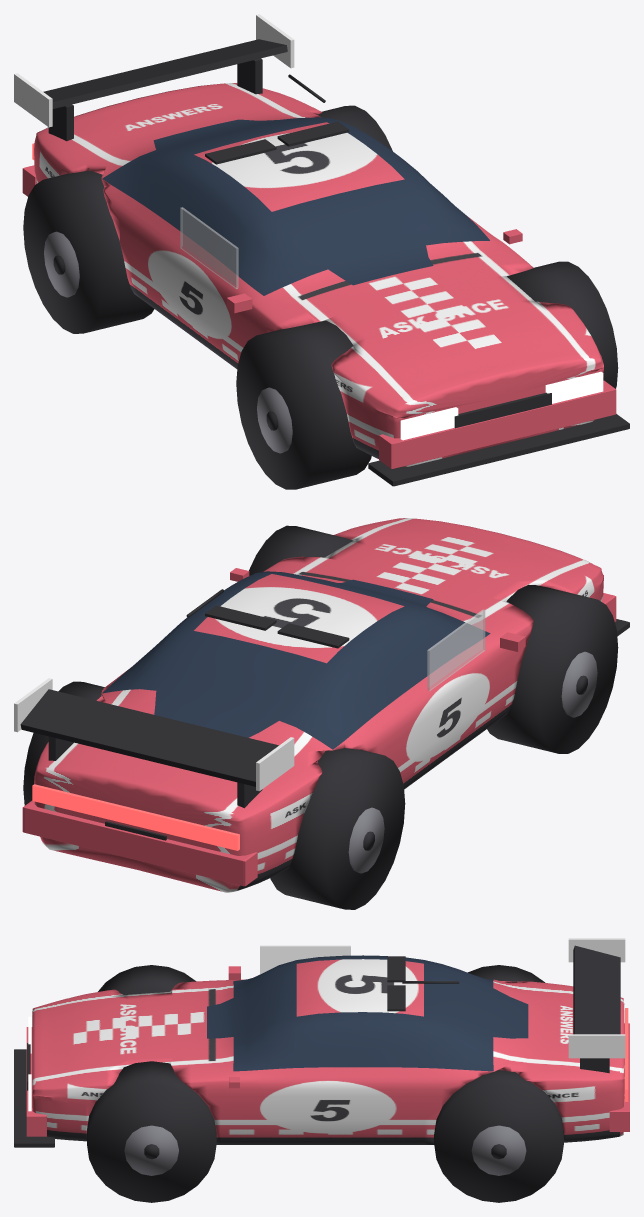
Rendered from car_8.glb.
The picture shows the model from 3 angles, top to bottom: view 1: azimuth 30°, elevation 25°; view 2: azimuth 150°, elevation 25°; view 3: azimuth 270°, elevation 25°; orthographic projection. The views are drawn at different scales.
Visible parts, largest first — view 1: body, cutter, cutter.002, bumperF, spoiler, cutter.001, splitter, net, dish, dish.002, grille, endplate (+8 smaller); view 2: body, cutter, cutter.002, spoiler, bumperR, tail, net, cutter.001, dish, dish.002, cutter.003, endplate (+3 smaller); view 3: body, cutter.001, cutter.003, spoiler, dish.003, dish.001, cutter, splitter, net, endplate.001, endplate, cutter.002 (+5 smaller).
Part boxes in pixels (x1,y1,x2,y2): body: (34, 83, 603, 466); cutter: (236, 320, 371, 489); cutter.002: (23, 170, 154, 333); bumperF: (379, 380, 616, 468); spoiler: (43, 39, 287, 108); cutter.001: (507, 261, 618, 388); splitter: (368, 414, 629, 486); net: (180, 207, 238, 288); dish: (257, 387, 292, 453); dish.002: (44, 231, 79, 297); grille: (454, 392, 551, 428); endplate: (14, 73, 52, 127); body: (34, 518, 603, 892); cutter: (487, 584, 618, 753); cutter.002: (270, 748, 405, 909); spoiler: (20, 689, 278, 786); bumperR: (22, 801, 257, 886); tail: (32, 784, 239, 850); net: (427, 609, 485, 691); cutter.001: (249, 525, 352, 575); dish: (561, 651, 597, 717); dish.002: (348, 807, 384, 873); cutter.003: (23, 681, 104, 805); endplate: (256, 737, 294, 791); body: (32, 955, 624, 1144); cutter.001: (87, 1061, 216, 1202); cutter.003: (434, 1070, 563, 1202); spoiler: (573, 945, 620, 1034); dish.003: (471, 1125, 526, 1175); dish.001: (124, 1125, 178, 1175); cutter: (98, 965, 196, 995); splitter: (14, 1049, 54, 1147); net: (260, 945, 350, 974); endplate.001: (568, 1034, 625, 1058); endplate: (568, 938, 625, 962); cutter.002: (468, 965, 545, 982).
Size of the model in its own units: 2.58 by 1.76 by 5.41.
11 materials, 1 textured.
